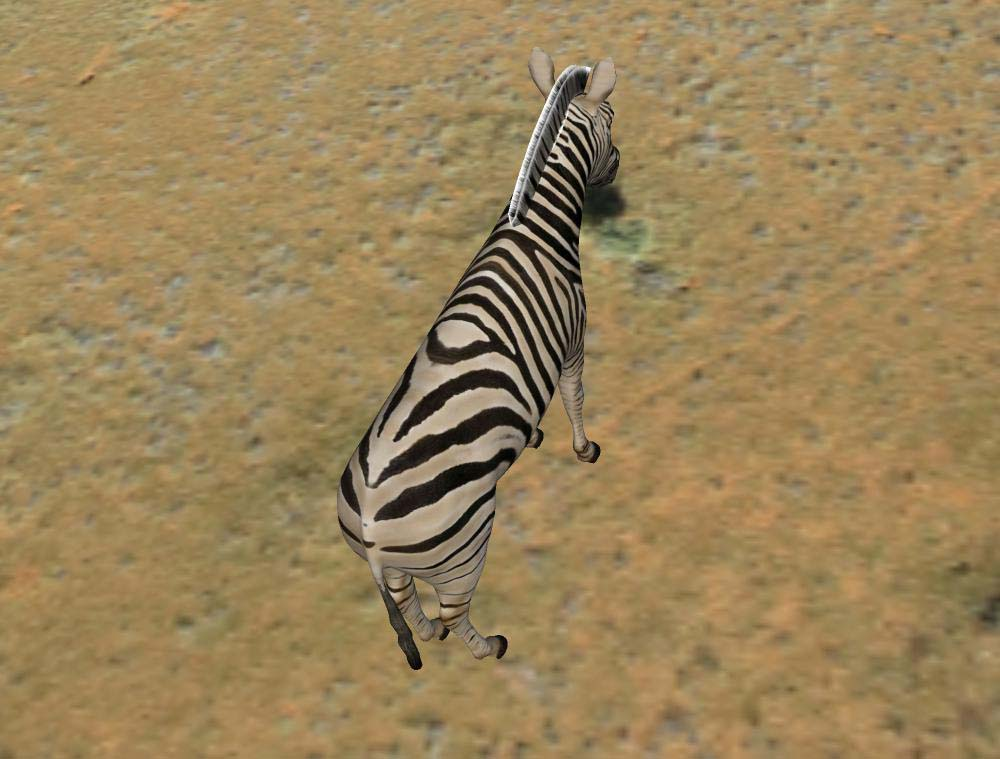zebra: (337, 45, 626, 683)
